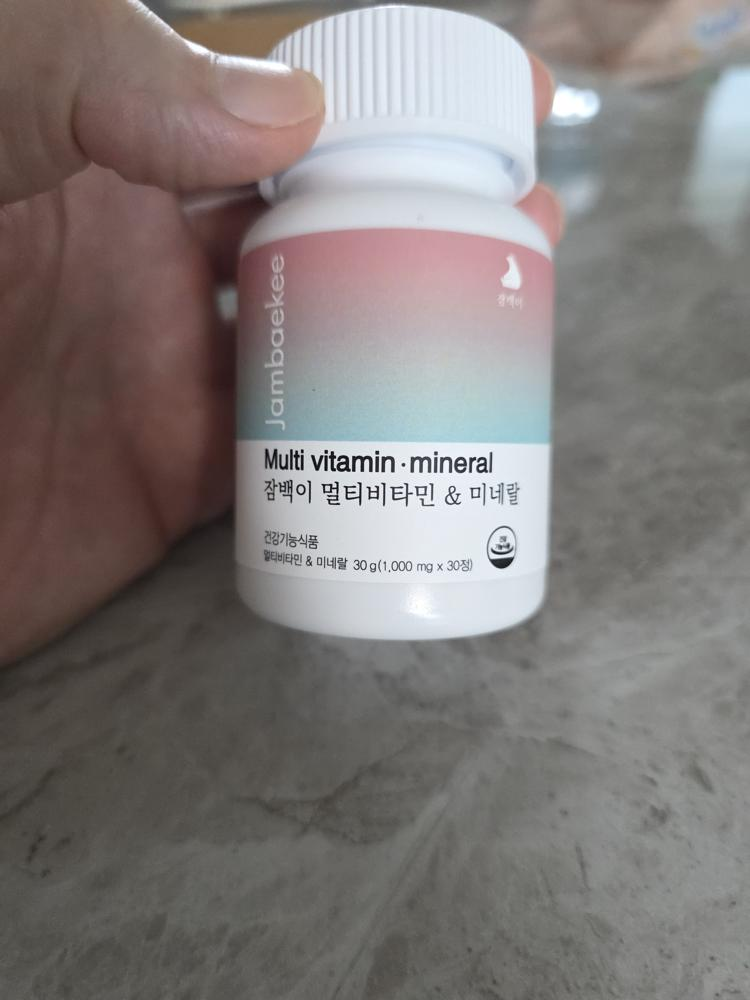supplement_label: (206, 219, 587, 600)
